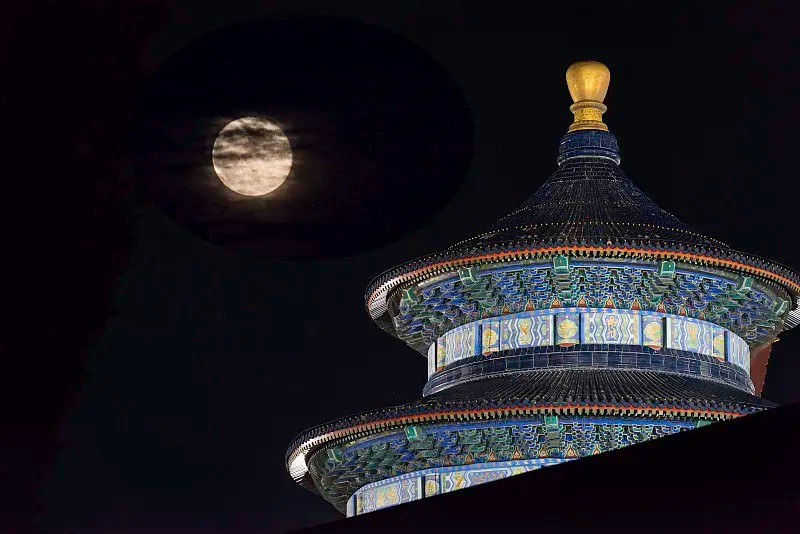Heaven: (283, 59, 797, 517)
